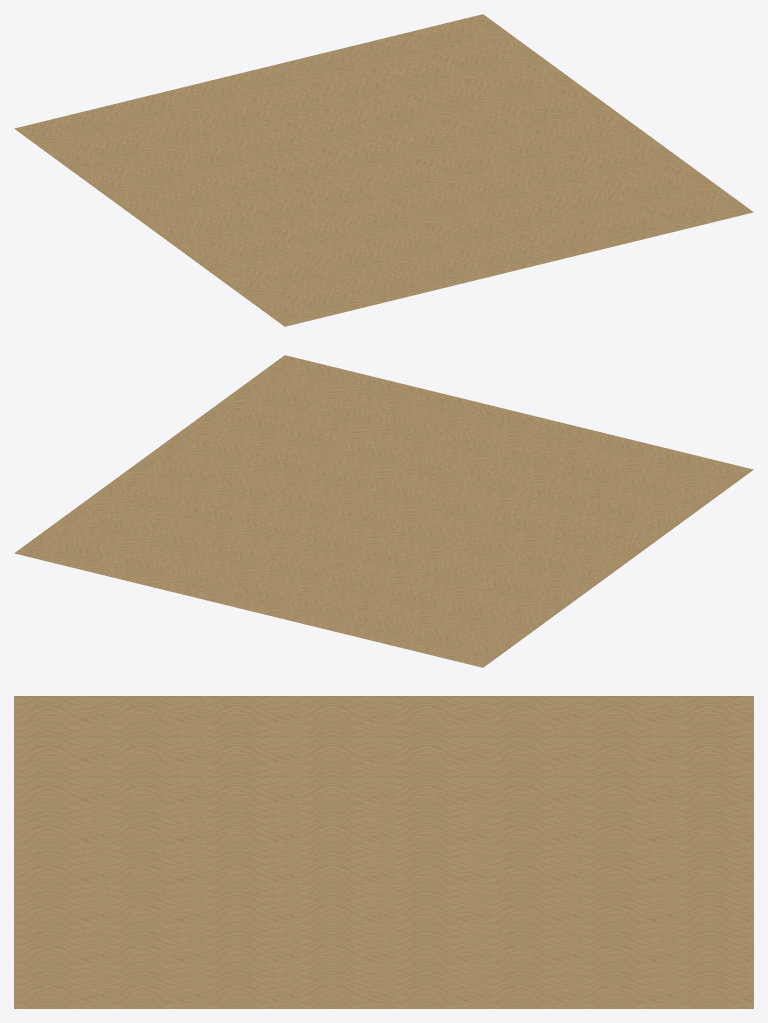
Rendered from FB5_dimian_01.FBX.
3 renders of one model, top to bottom at view 1: azimuth 30°, elevation 25°; view 2: azimuth 150°, elevation 25°; view 3: azimuth 270°, elevation 25°, orthographic. The views are drawn at different scales.
Parts seen in each view (by area): view 1: FB5_dimian_01; view 2: FB5_dimian_01; view 3: FB5_dimian_01.
Part boxes in pixels (x1,y1,x2,y2): FB5_dimian_01: [14, 14, 753, 326]; FB5_dimian_01: [14, 355, 753, 667]; FB5_dimian_01: [14, 696, 753, 1008].
Bounding box in the file's own units: 2040376 × 0.2755 × 2040376.
1 material, 1 textured.
